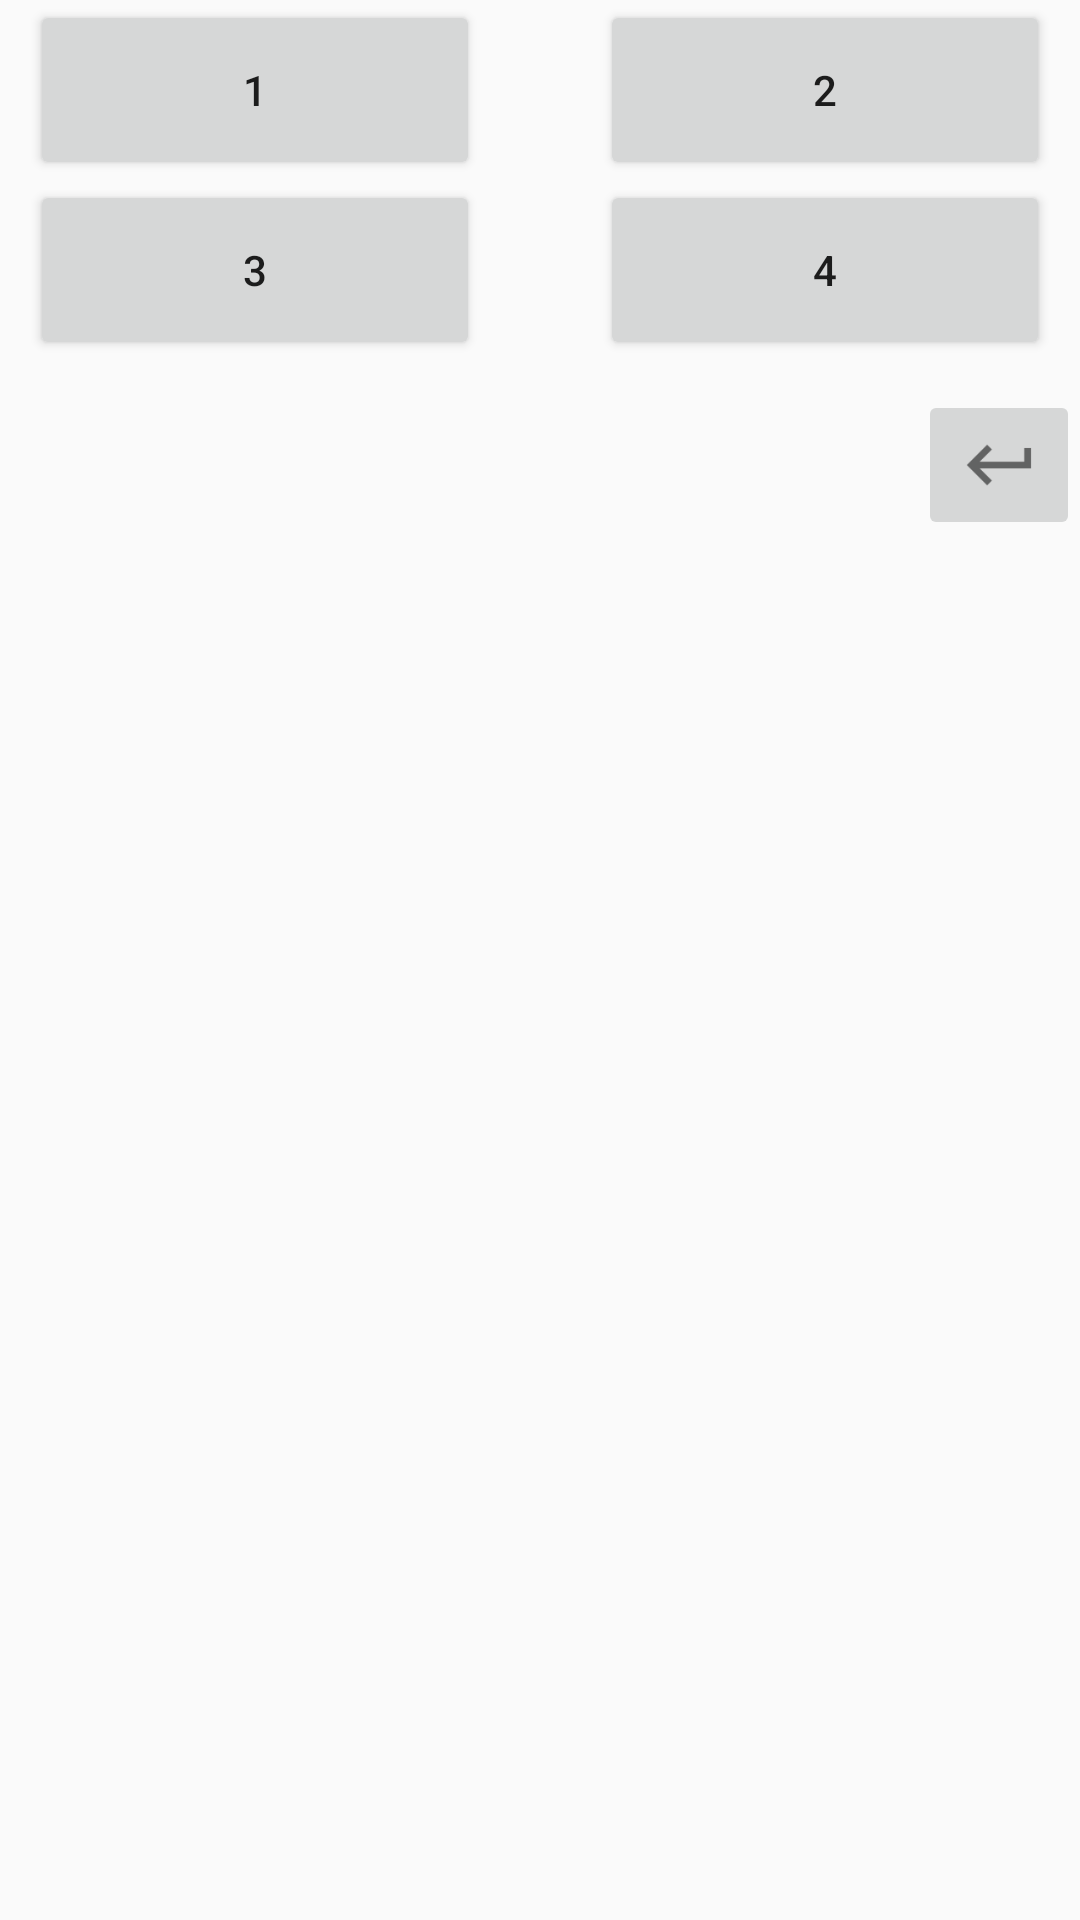

Where to tap for icons on this 1080px×1920px app screen, as (x,y):
keyboard return: (999,465)
